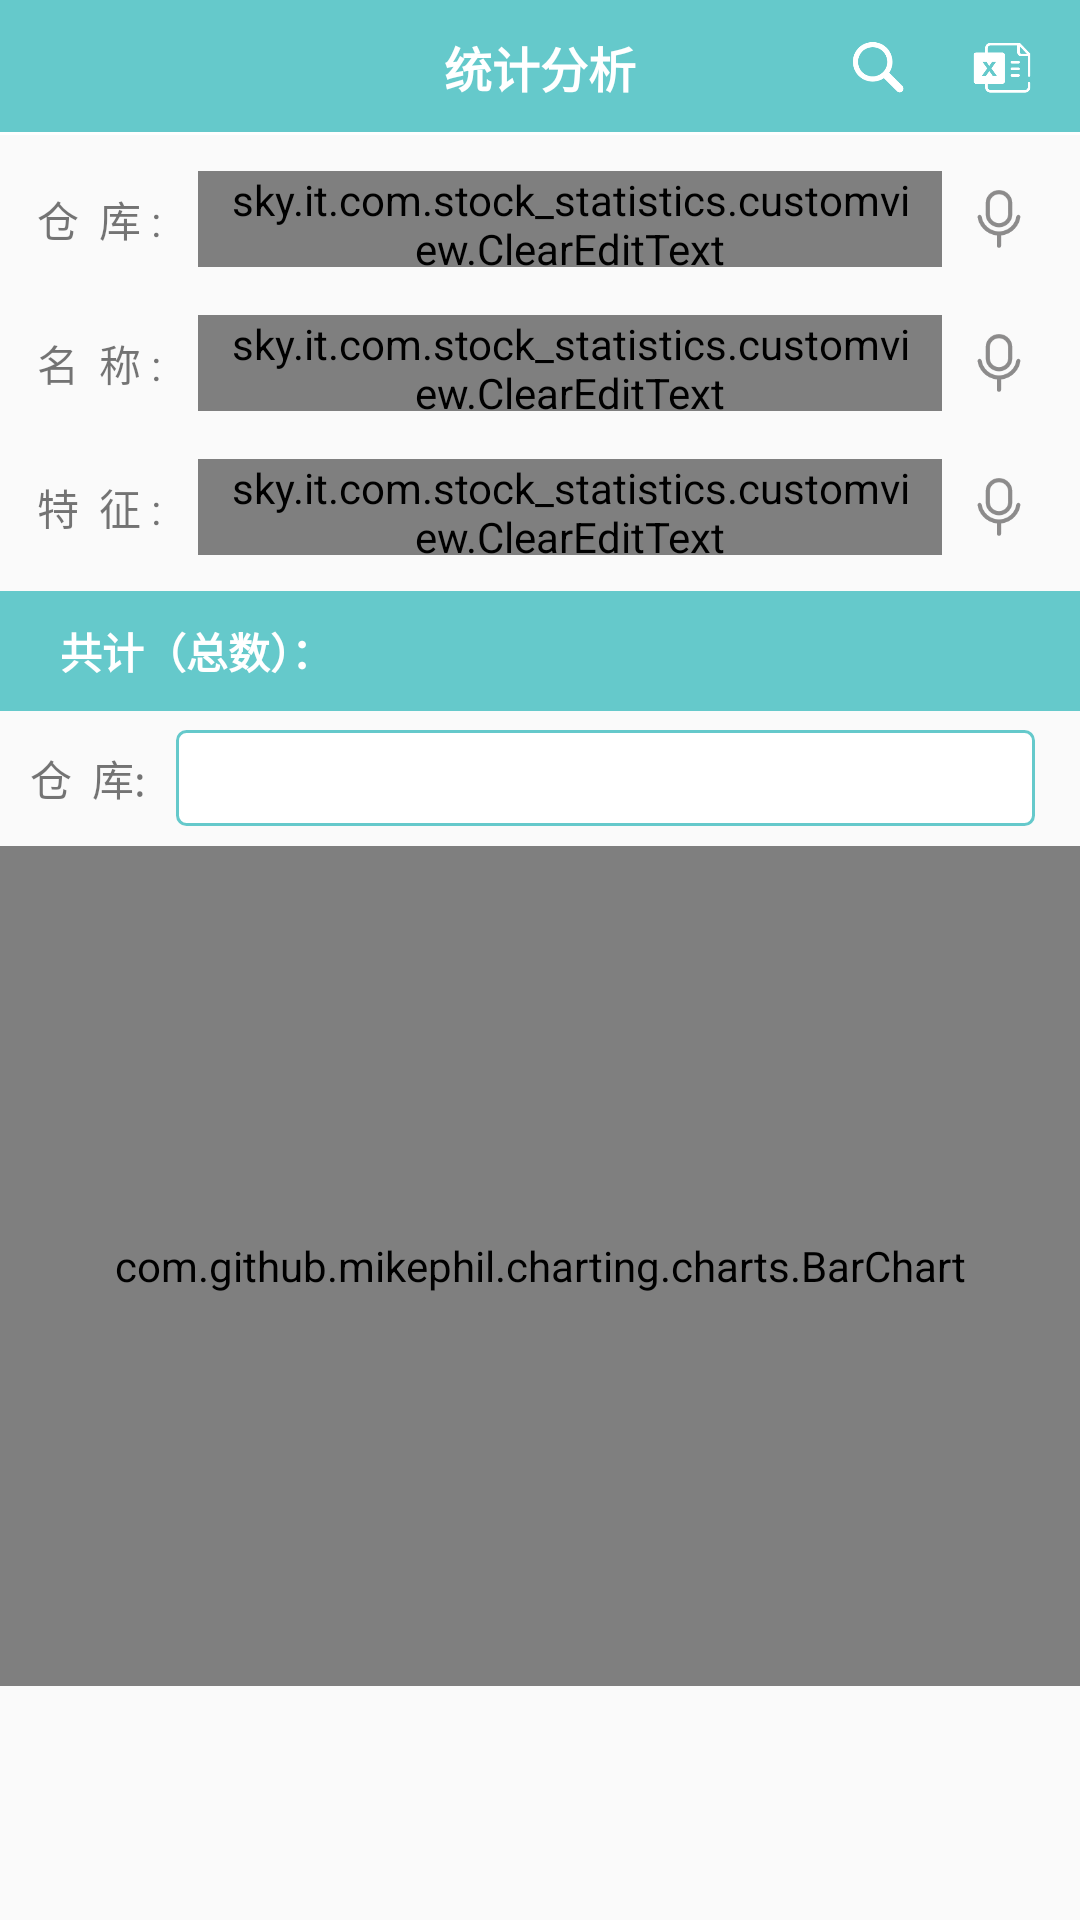

Icon bounding boxes for this 1080×1920 phone screenshot, format bbox(x1, y1, x2, y2):
record unuse: bbox(977, 190, 1021, 248), bbox(977, 334, 1021, 392), bbox(977, 478, 1021, 536)
search: bbox(853, 42, 904, 93)
